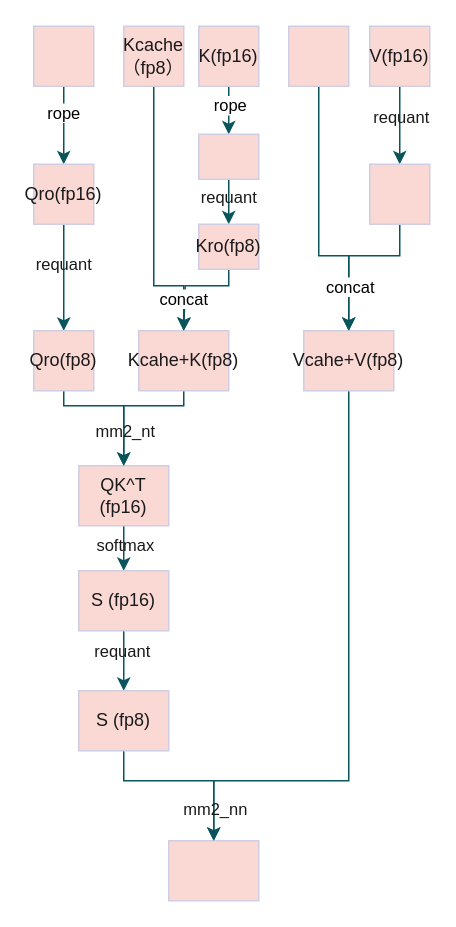
This 456x927 diagram has some shape labels left out. The shapes that lost their labels are listed below. From the top down, each one's centre as x and y in pixels, then its label:
At point 63,55: "Q(fp16)".
At point 318,55: "Vcache（fp8）".
At point 228,156: "Kro(fp16)".
At point 399,193: "V(fp8)".
At point 213,870: "SV (fp16)".
